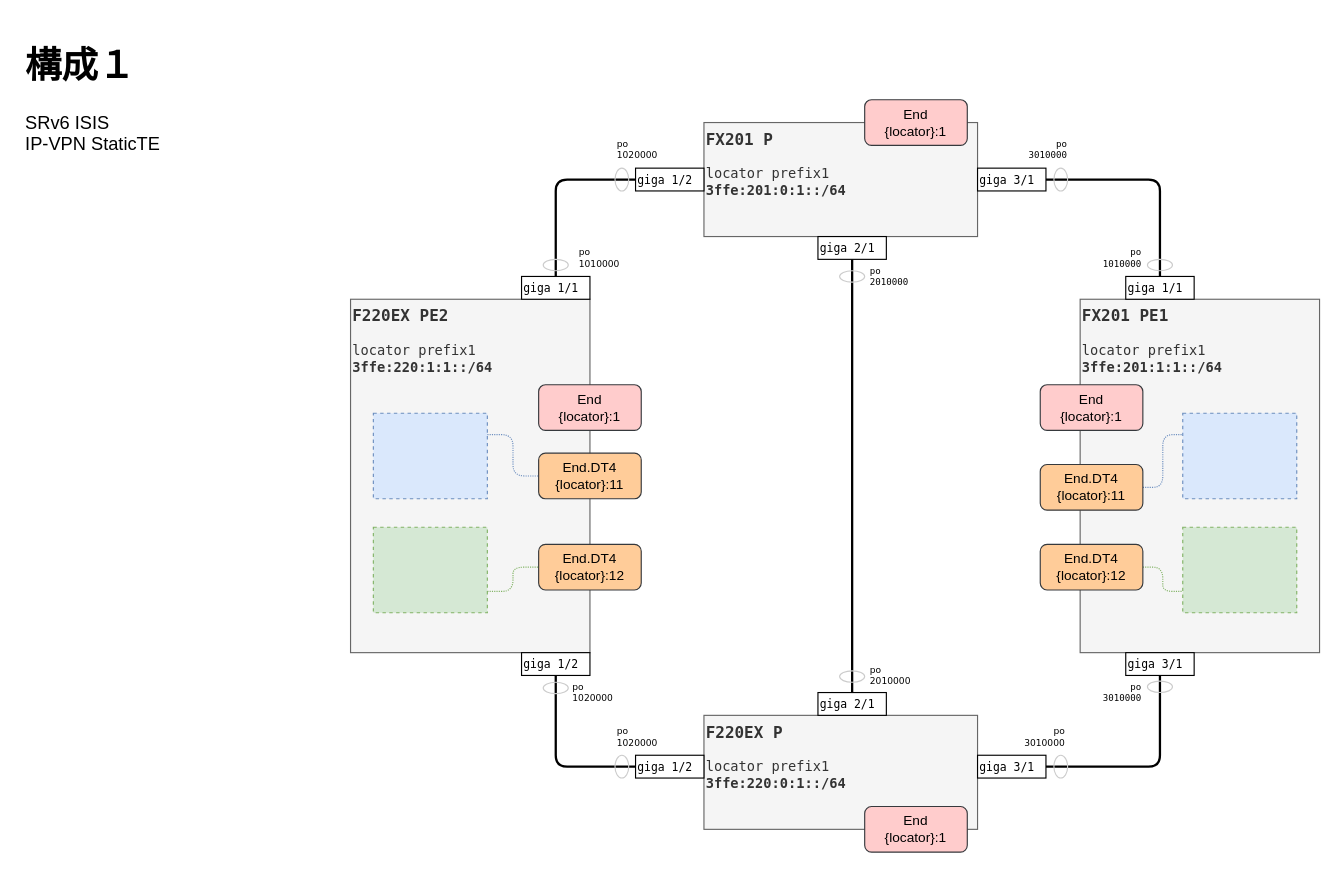
Image size: 1340x872. Some labels were removed from this diagram. Here are the shapes that lost their labels. From the top down, the centre of each, then its label:
point (429, 455): vrf 1 220.0.1.1/24 220:1::1/32
point (1239, 455): vrf 1 201.0.1.1/24 201:1::1/32
point (429, 569): vrf 2 220.0.2.1/24 220:2::1/32
point (1239, 569): vrf 2 201.0.2.1/24 201:2::1/32
